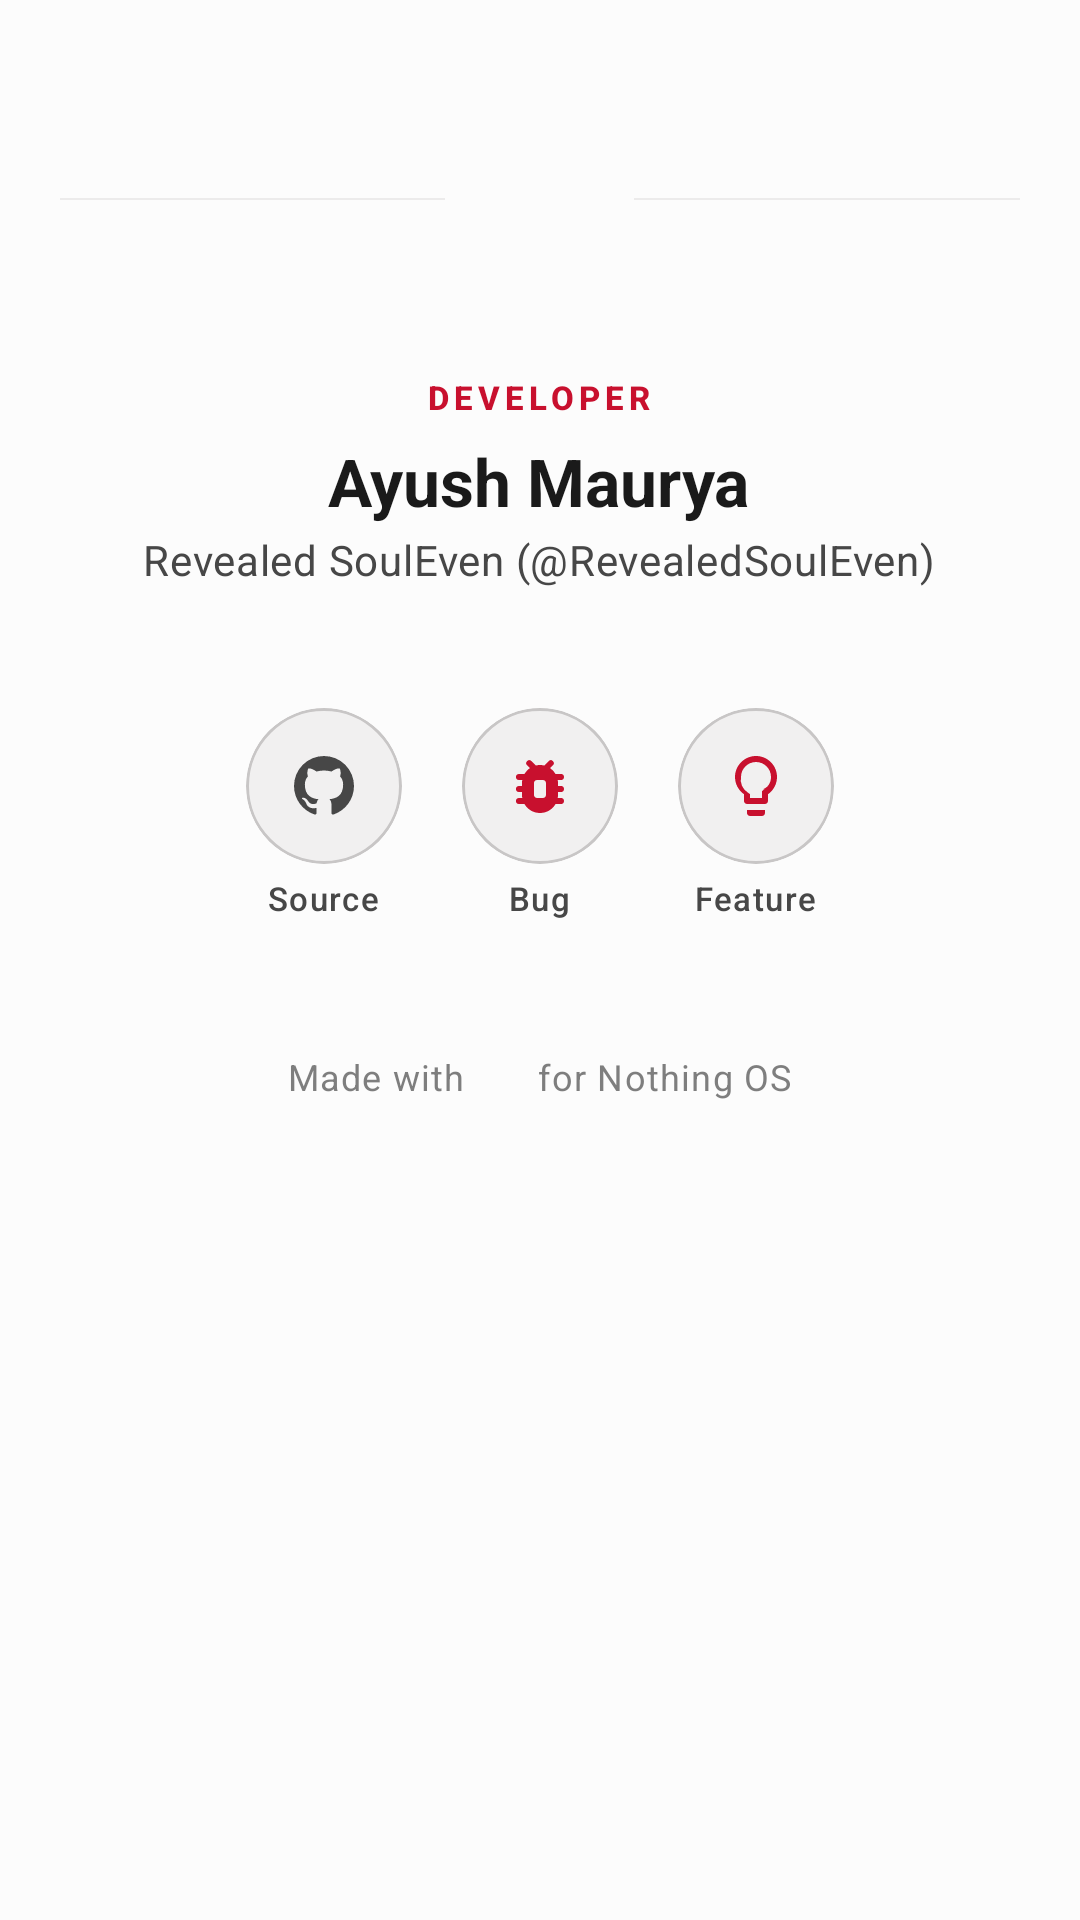

Where icons sit on this 1080×1920 app screen, as (x1, y1, x2, y2):
bug report: (516, 760, 564, 813)
lightbulb: (735, 756, 777, 816)
